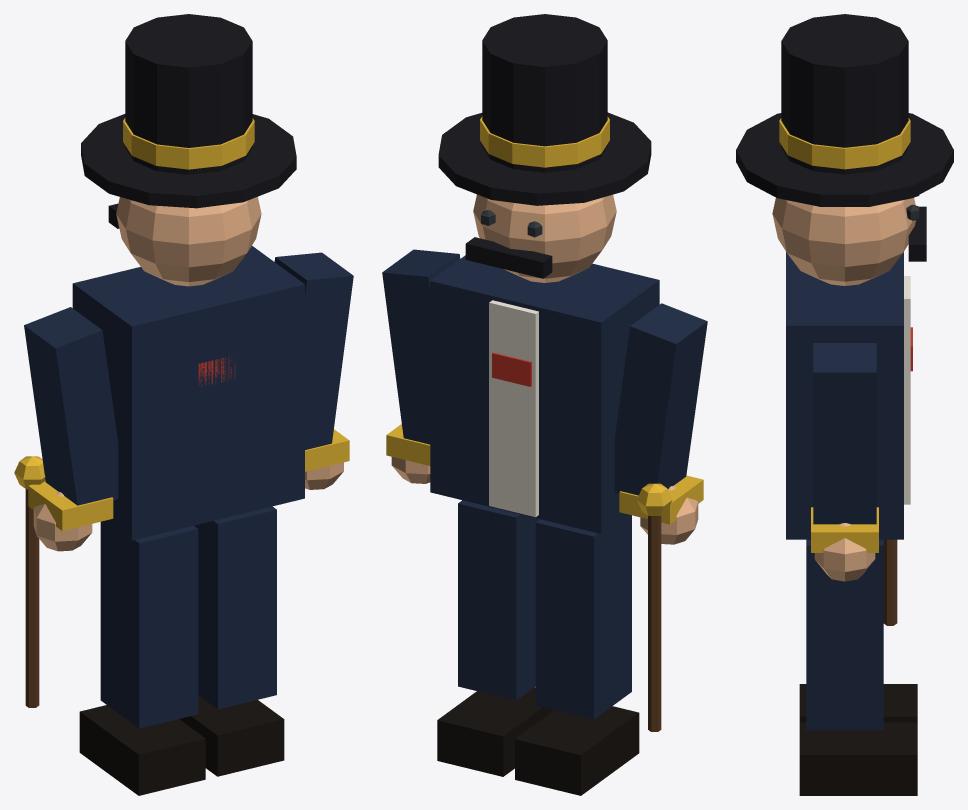
File: Character_VIP.fbx
3 renders of one model, left to right at view 1: azimuth 30°, elevation 25°; view 2: azimuth 150°, elevation 25°; view 3: azimuth 270°, elevation 25°, orthographic.
Parts seen in each view (by area): view 1: Character_VIP; view 2: Character_VIP; view 3: Character_VIP.
Part boxes in pixels (left/top/right/bottom): Character_VIP: left=14, top=14, right=353, bottom=795; Character_VIP: left=382, top=14, right=707, bottom=795; Character_VIP: left=736, top=14, right=953, bottom=795.
Size of the model in its own units: 0.7731 by 1.75 by 0.48.
